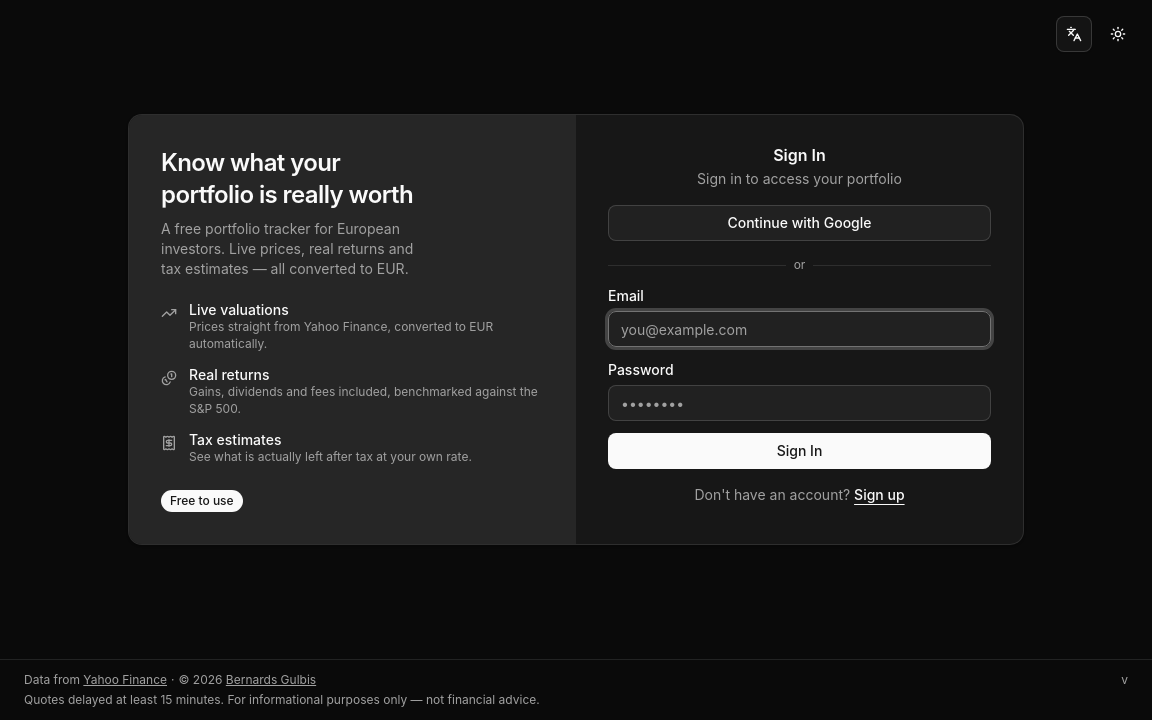
it: LoginPage › keeps the intro panel visible in register mode
The width and height of the screenshot is (1152, 720).
Click the button "Sign up": {"x": 879, "y": 495} left=854, top=485, right=905, bottom=505
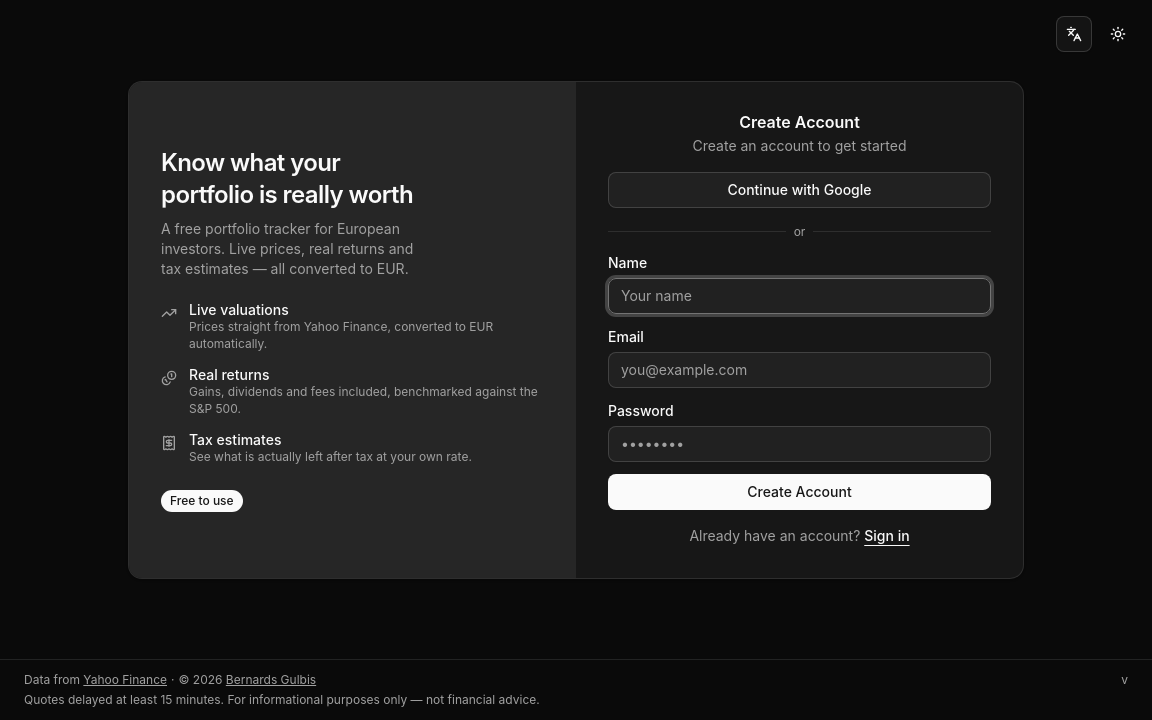
Expected: the heading "Know what your portfolio is really worth" is shown, left=161, top=148, right=413, bottom=209
Now the text "Create Account" is shown, box left=739, top=112, right=860, bottom=132
